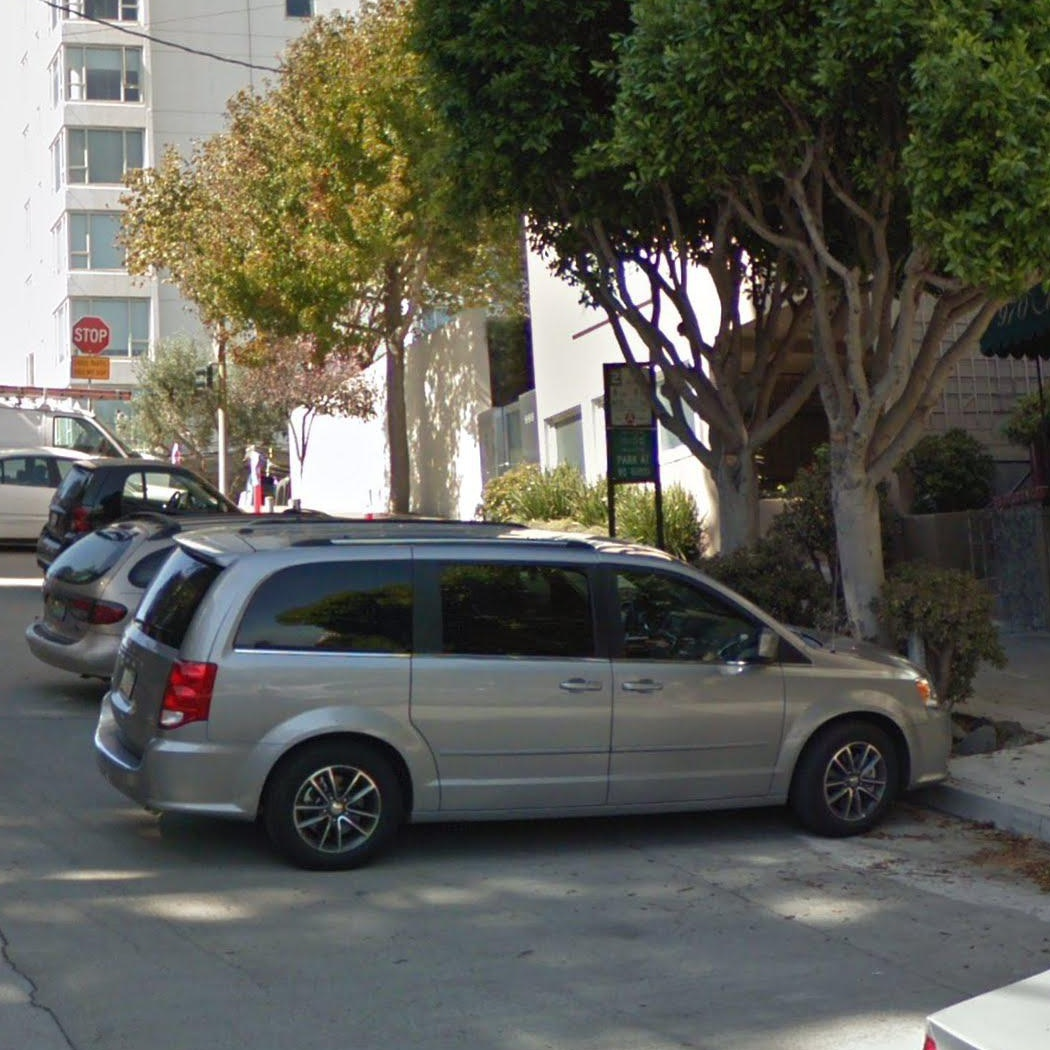2 Hour Parking: (603, 363, 657, 428)
